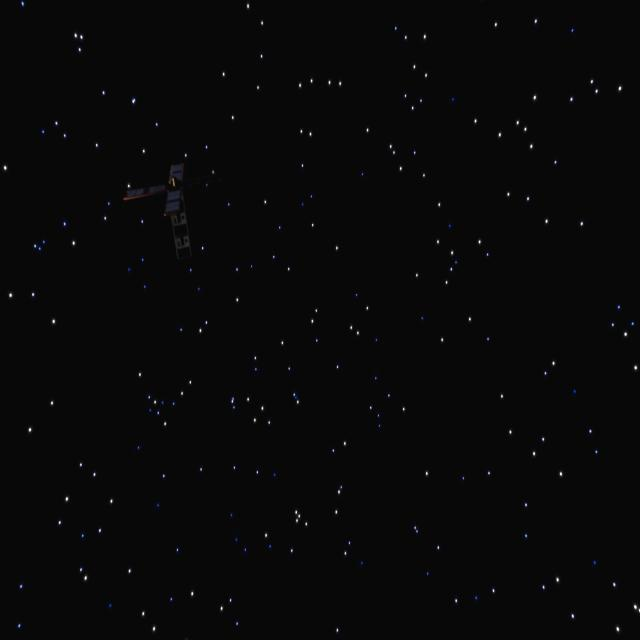satellite: (119, 154, 207, 269)
